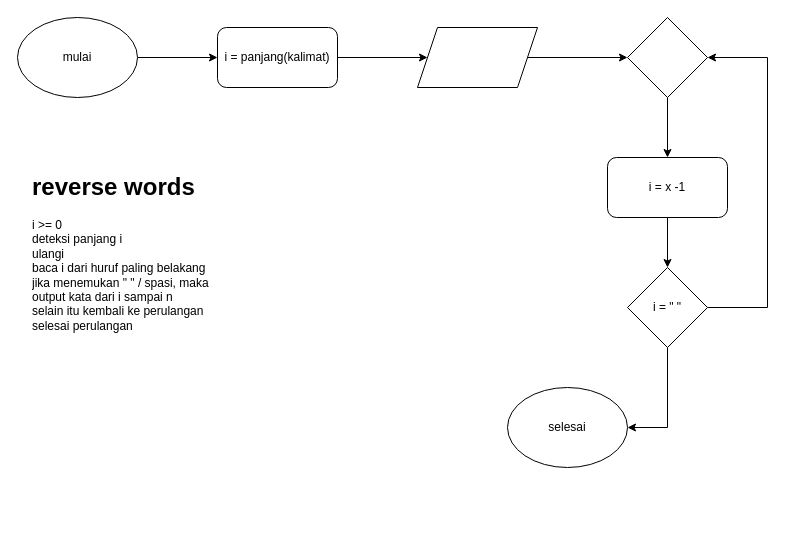
Some shapes in this 793 by 545 pixel diagram are drawn without their labels. The box of each missing label's shape, as (x1, y1, x2, y2) in pixels:
i >= 0: (626, 16, 708, 98)
input i: (416, 26, 538, 88)
